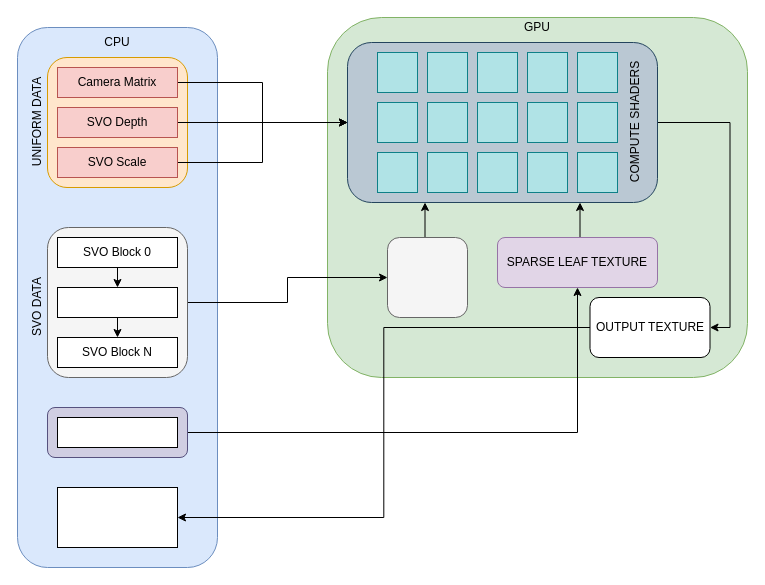
This 765x585 diagram has some shape labels left out. The centre of each missing label's shape, as x and y in pixels:
"Indexed Leaf Data" goes at point (117, 432).
"SCREEN" goes at point (117, 517).
"SVO Block 1" goes at point (117, 302).
"SVO SSBO" goes at point (427, 277).
